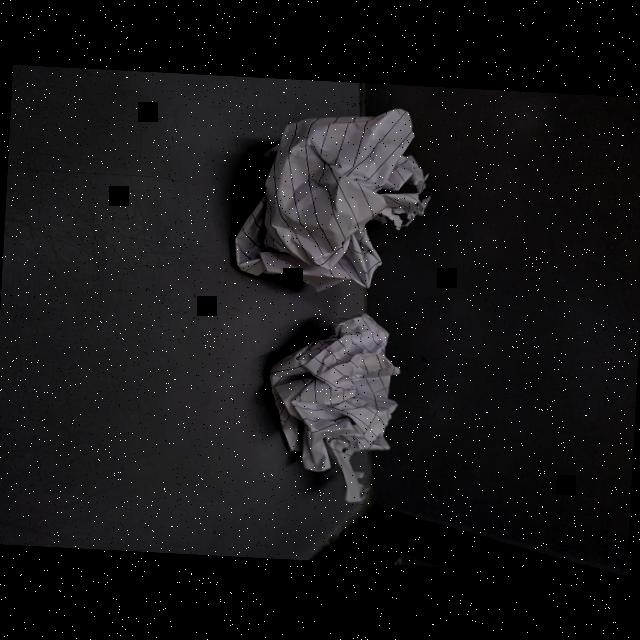scrap_paper: (216, 97, 443, 304), (258, 318, 412, 506)
